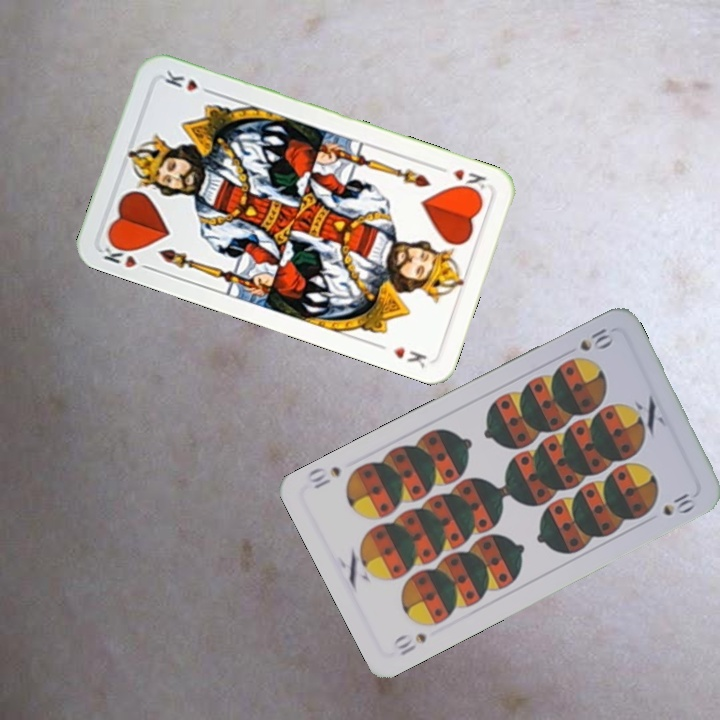HK: (99, 236, 155, 273), (434, 162, 489, 198)
S10: (575, 322, 617, 354), (389, 628, 430, 658)
